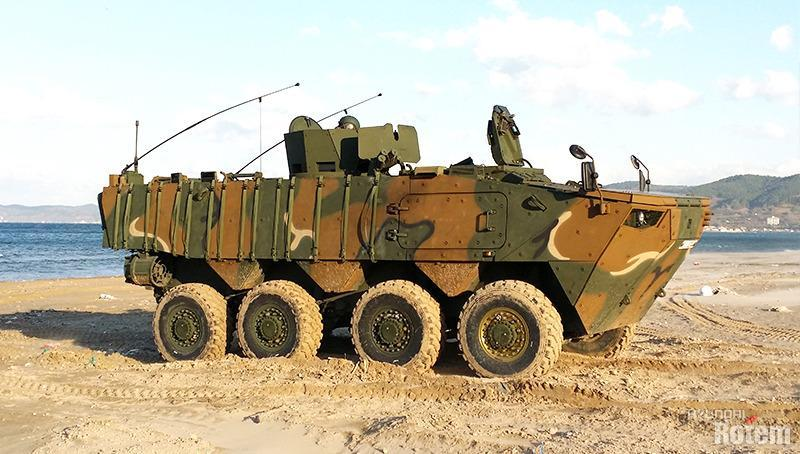MIL_IFV: (97, 89, 717, 375)
